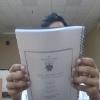notebook: (14, 25, 86, 99)
